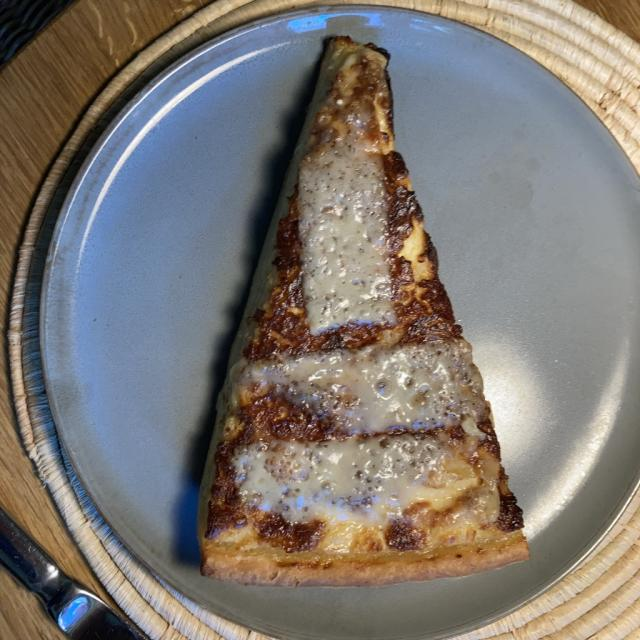cheese: (233, 144, 474, 524)
